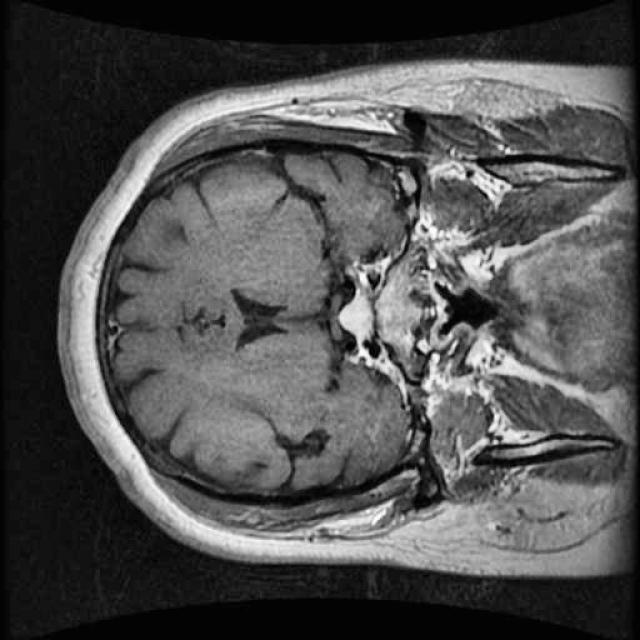Tumor: (331, 253, 382, 358)
